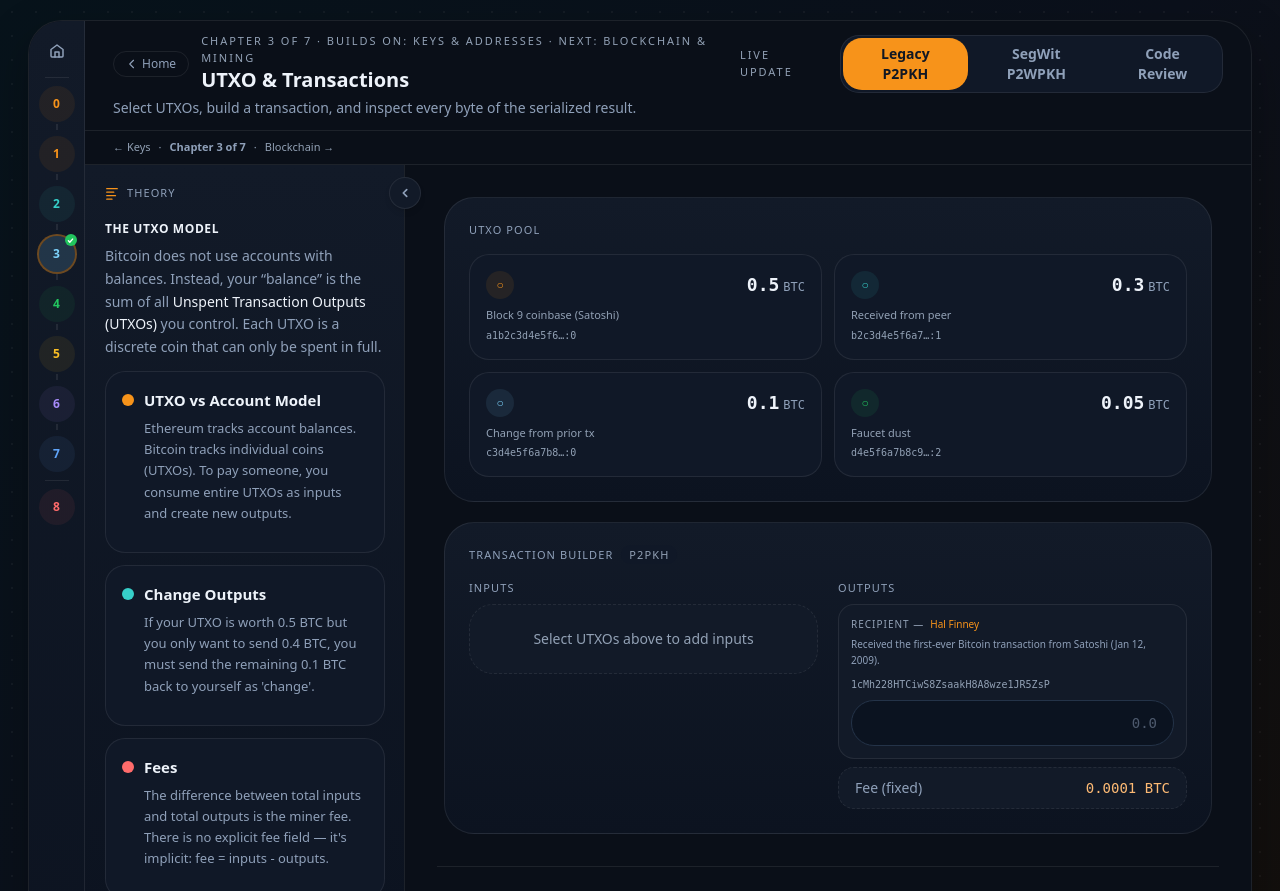
Test: UTXOBuilder › AC: SegWit toggle shows witness-related content
Note: Select and build valid transaction
Click the checkbox named "0.5 BTC". click: (763, 284)
box: [469, 254, 822, 360]
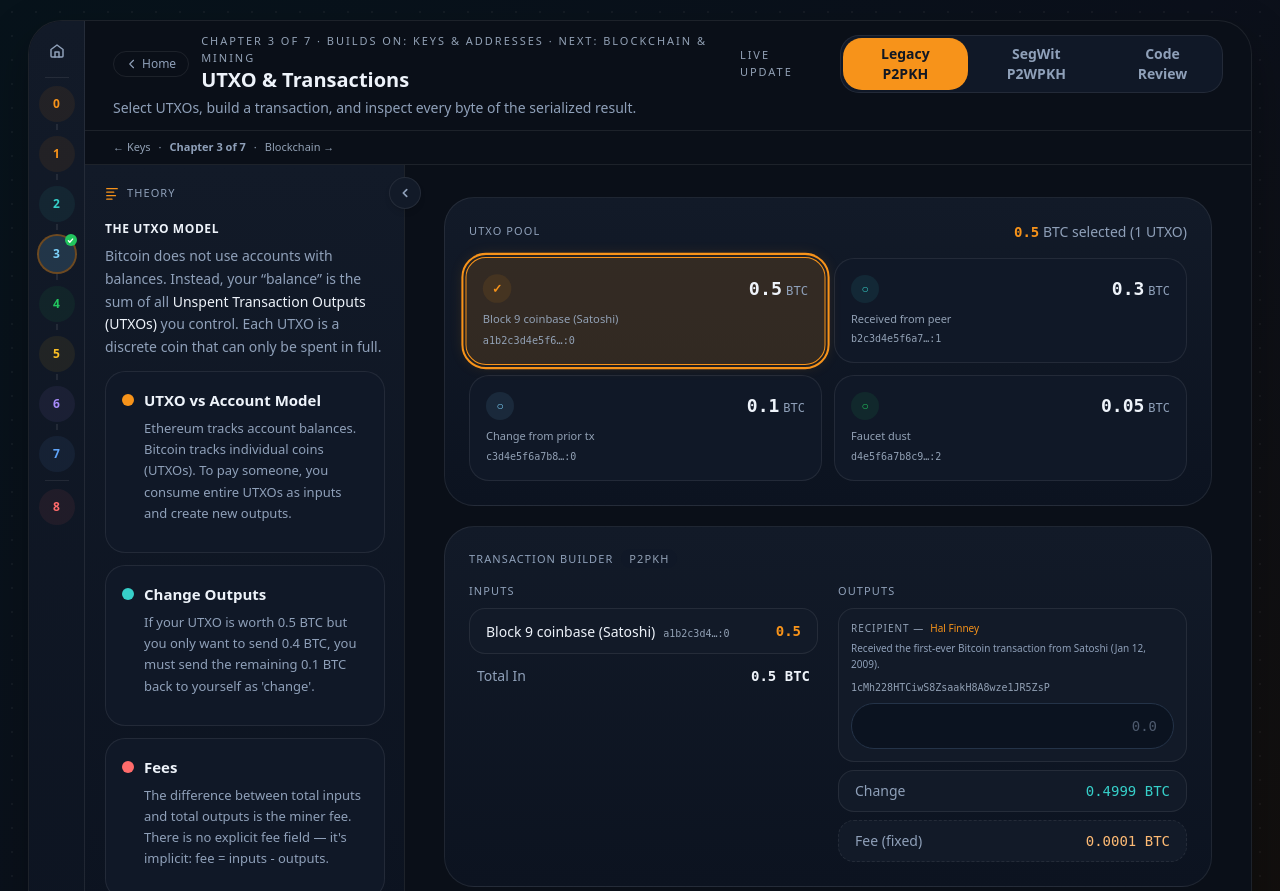
Type "0.3" into the field named "recipient amount". click: (1012, 726)
box: [851, 703, 1174, 749]
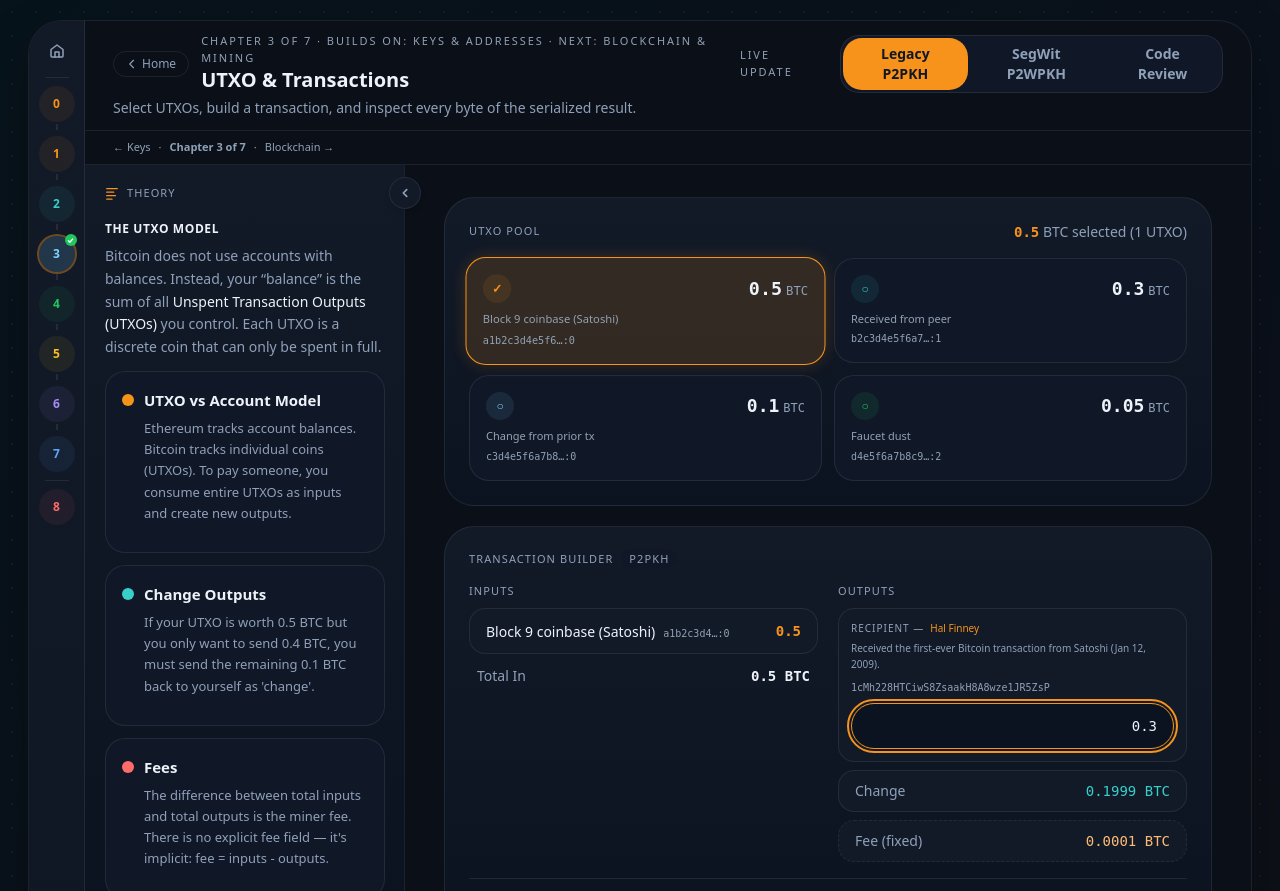
Note: Toggle to SegWit
Click the tab "SegWit P2WPKH". click: (1036, 64)
box: [968, 38, 1105, 90]
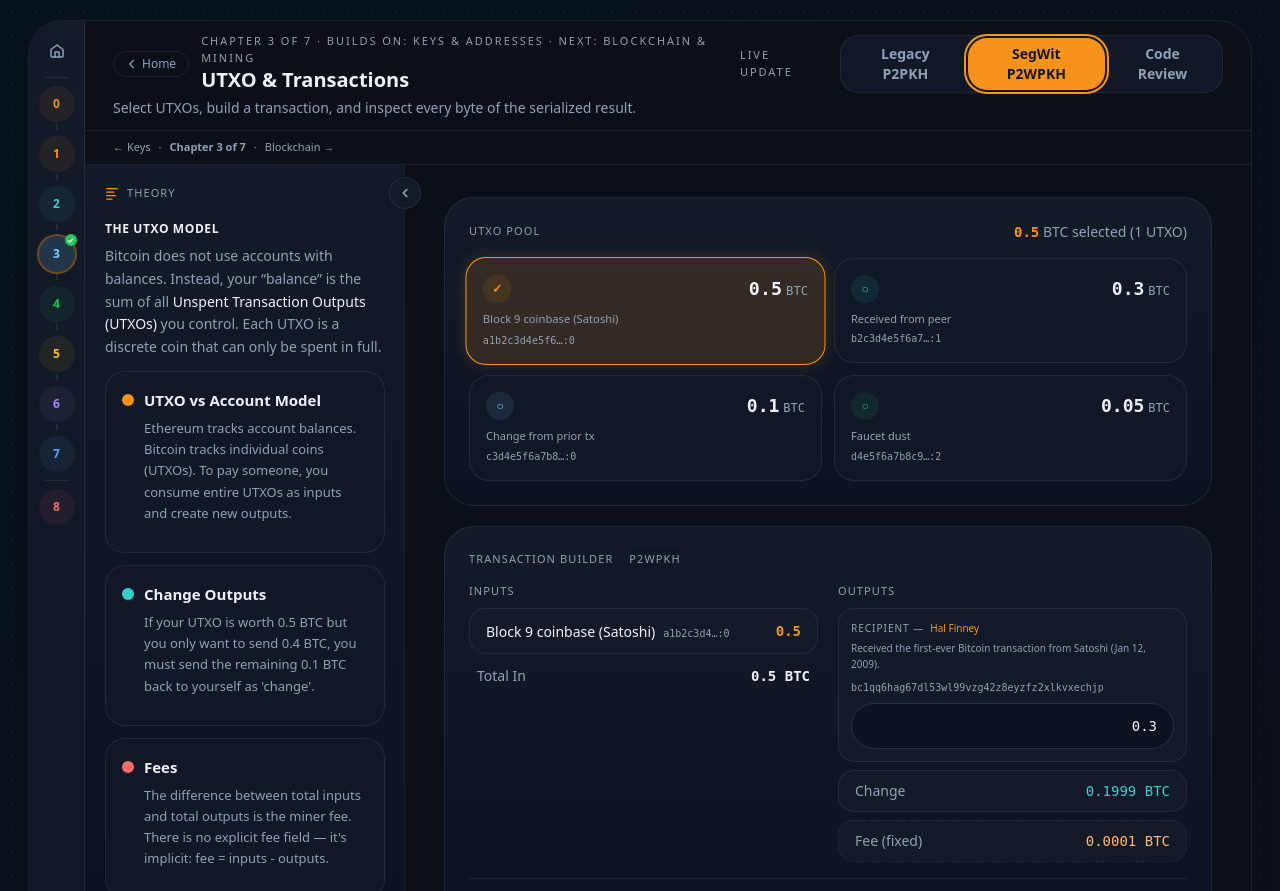
Now the text "P2WPKH" is shown, box [621, 548, 689, 568]
